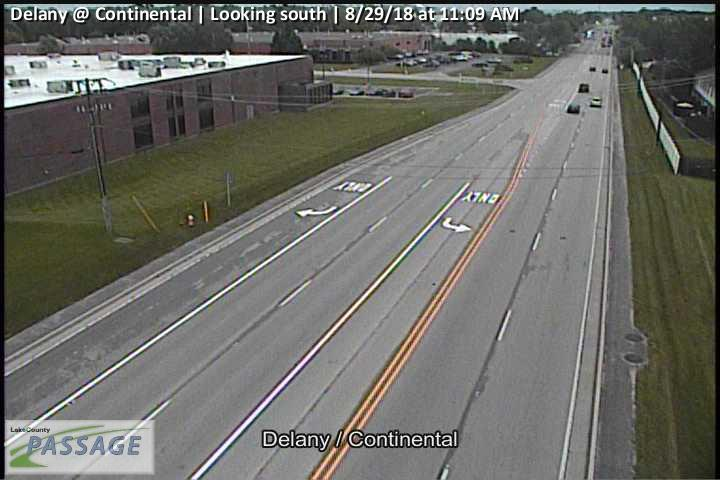Sedan: (567, 103, 580, 113), (591, 96, 602, 107), (579, 83, 589, 92)
